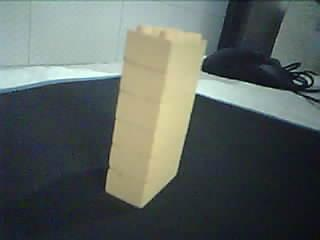lego: (103, 24, 207, 209)
